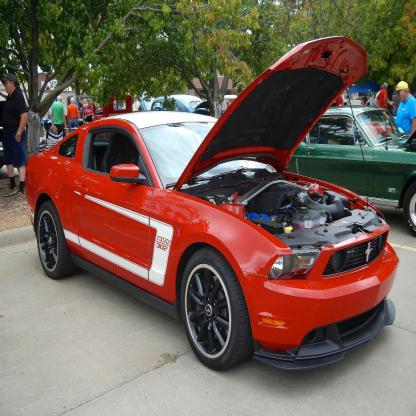Car: (25, 35, 416, 371)
